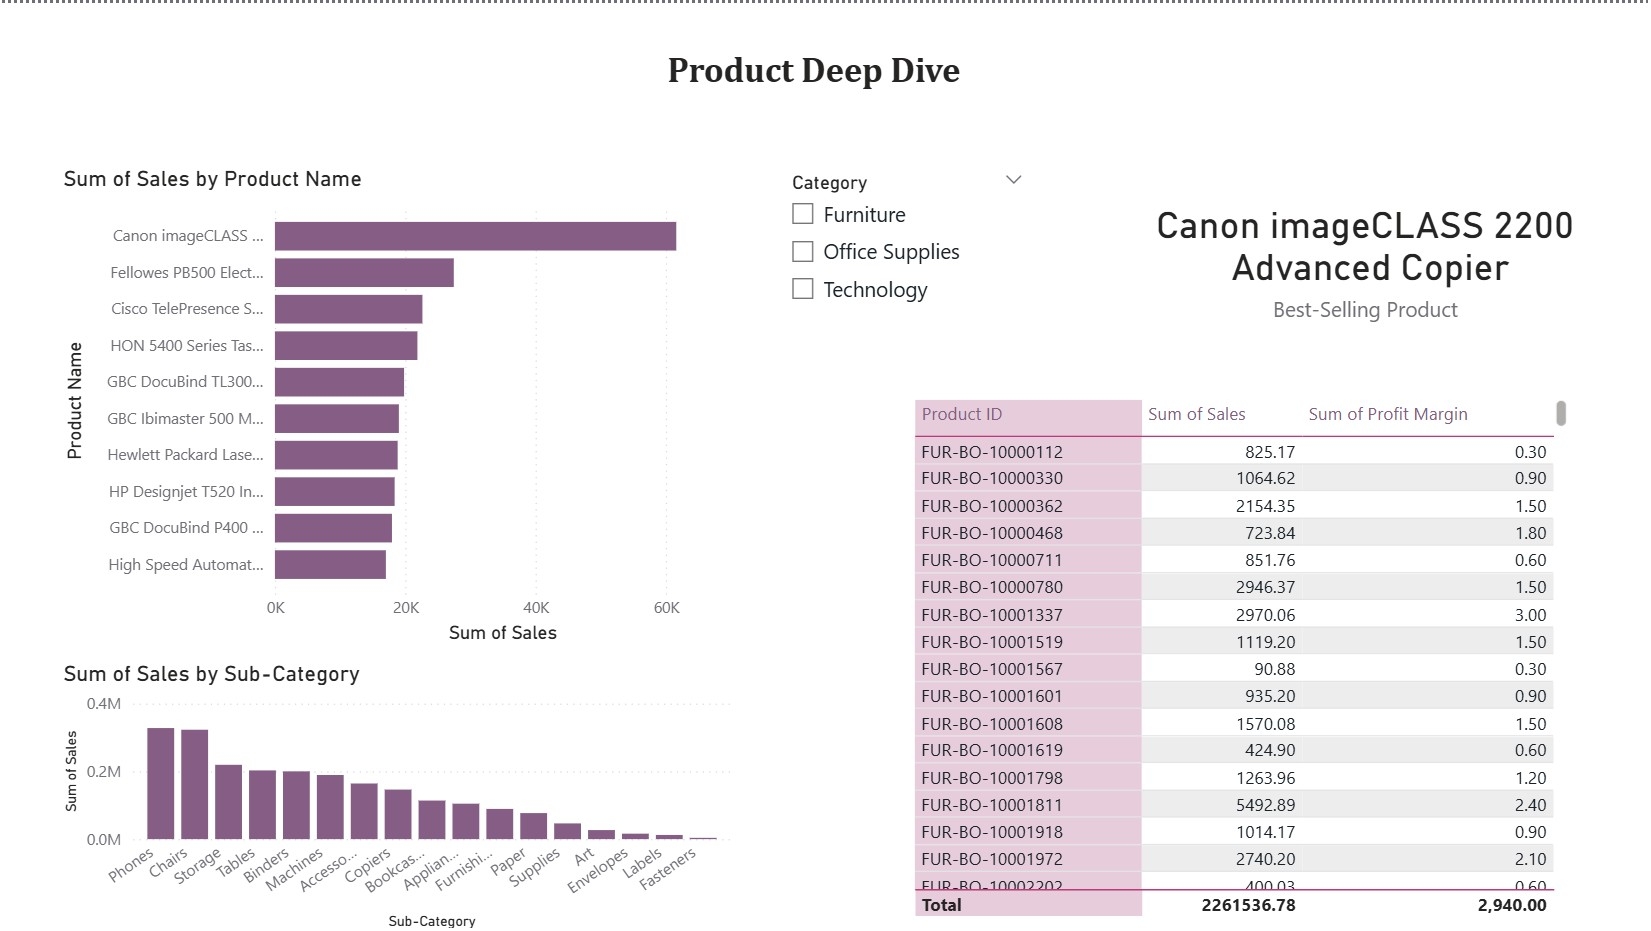

Layout of this report page (visuals, bound fields, positions):
{"tool":"powerbi","page":{"name":"Product Deep Dive","canvas":[1280,720],"ordinal":1},"visuals":[{"type":"textbox","box":[489,30.1,279.3,61.4],"z":0},{"type":"barChart","fields":{"Y":["Sum(train.Sales)"],"Category":["train.Product Name"]},"box":[44,125.1,535.3,373.1],"z":1000},{"type":"columnChart","fields":{"Y":["Sum(train.Sales)"],"Category":["train.Sub-Category"]},"box":[44,507.5,524.9,212],"z":2000},{"type":"card","fields":{"Values":["train.Best-Selling Product"]},"box":[880.6,106.6,347.6,178.4],"z":3000},{"type":"tableEx","fields":{"Values":["train.Product ID","Sum(train.Sales)","Sum(train.Profit Margin)"]},"box":[701,301.3,514.5,409],"z":4000},{"type":"slicer","fields":{"Values":["train.Category"]},"box":[599.1,125.1,202.8,159.9],"z":5000}]}

Visuals, with their boxes in screenshot pixels (x1, y1, x2, y2), scaled from the page's 1280x720 canvas onto the 1651x931 screenshot:
textbox: x1=631, y1=39, x2=991, y2=118
barChart - Sum(train.Sales) x train.Product Name: x1=57, y1=162, x2=747, y2=644
columnChart - Sum(train.Sales) x train.Sub-Category: x1=57, y1=656, x2=734, y2=930
card - train.Best-Selling Product: x1=1136, y1=138, x2=1584, y2=369
tableEx - train.Product ID x Sum(train.Sales): x1=904, y1=390, x2=1568, y2=918
slicer - train.Category: x1=773, y1=162, x2=1034, y2=369
